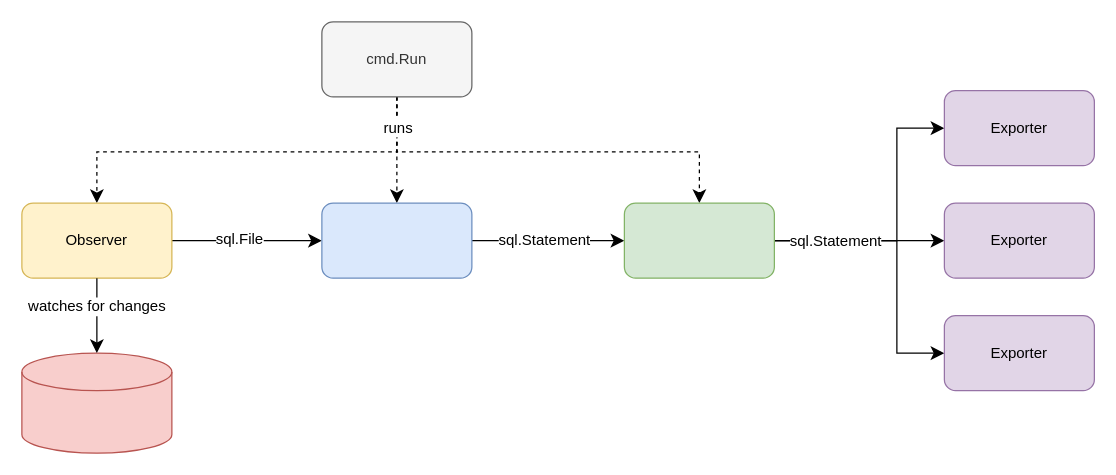
Image size: 1116x475. Some labels were removed from this diagram. Each missing label, with the centre of its shape:
"Filesystem" goes at (x=96, y=402).
"Manager" goes at (x=698, y=240).
"Processor" goes at (x=396, y=240).
